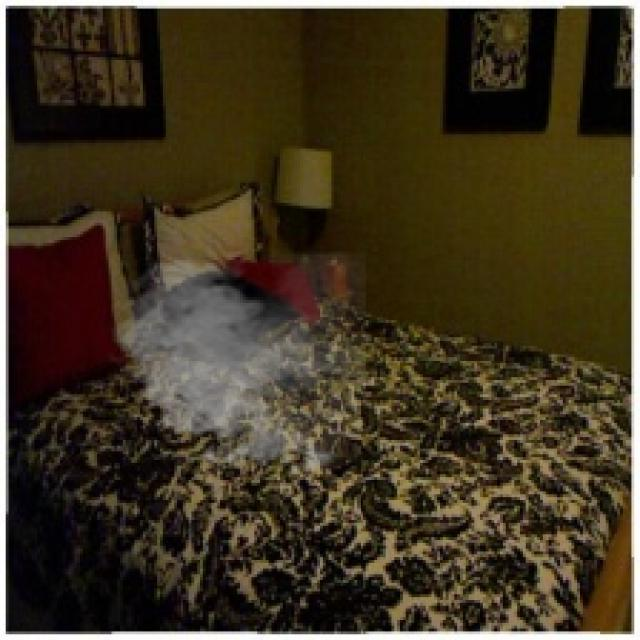Smoke: (103, 252, 366, 479)
